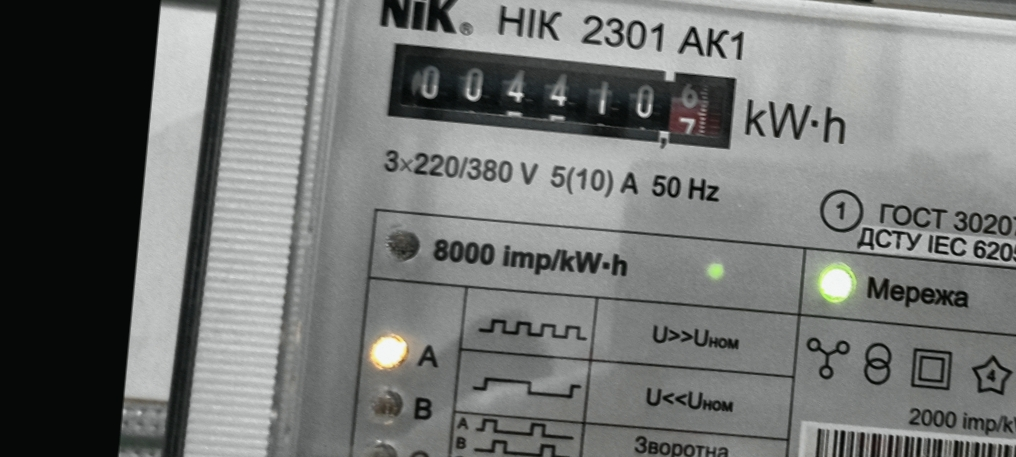0: (417, 60, 442, 100), (462, 63, 484, 103), (633, 81, 656, 119)
1: (593, 77, 610, 116)
4: (503, 64, 528, 104), (546, 69, 571, 109)
6: (681, 81, 700, 109)
7: (676, 114, 696, 135)
screen: (374, 29, 750, 161)
